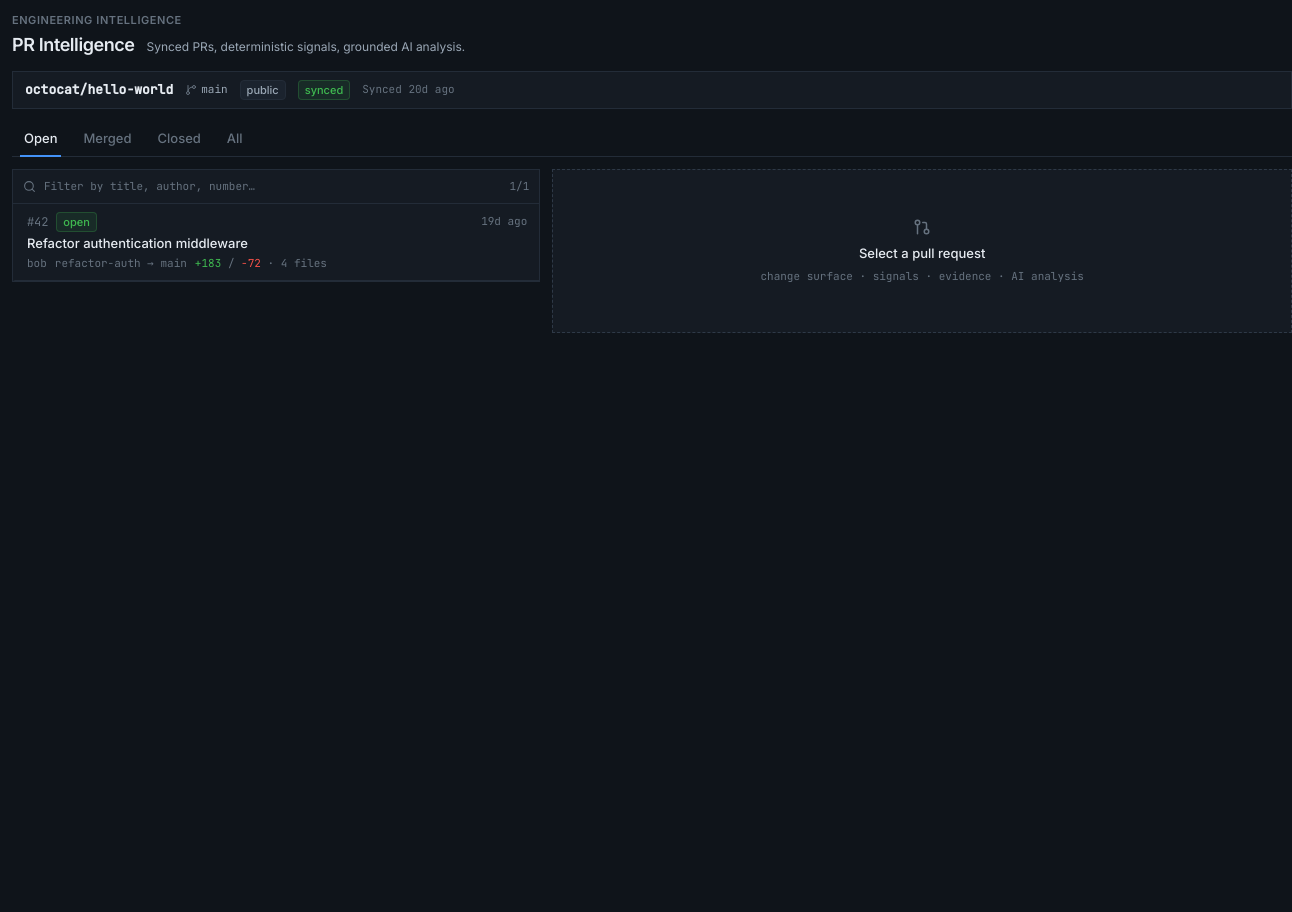
it: PullRequestPage real intelligence › generates AI analysis on explicit action and renders it
The width and height of the screenshot is (1292, 912).
Click the text "Refactor authentication middleware".
click(137, 242)  # box top-left (27, 234), bottom-right (248, 250)
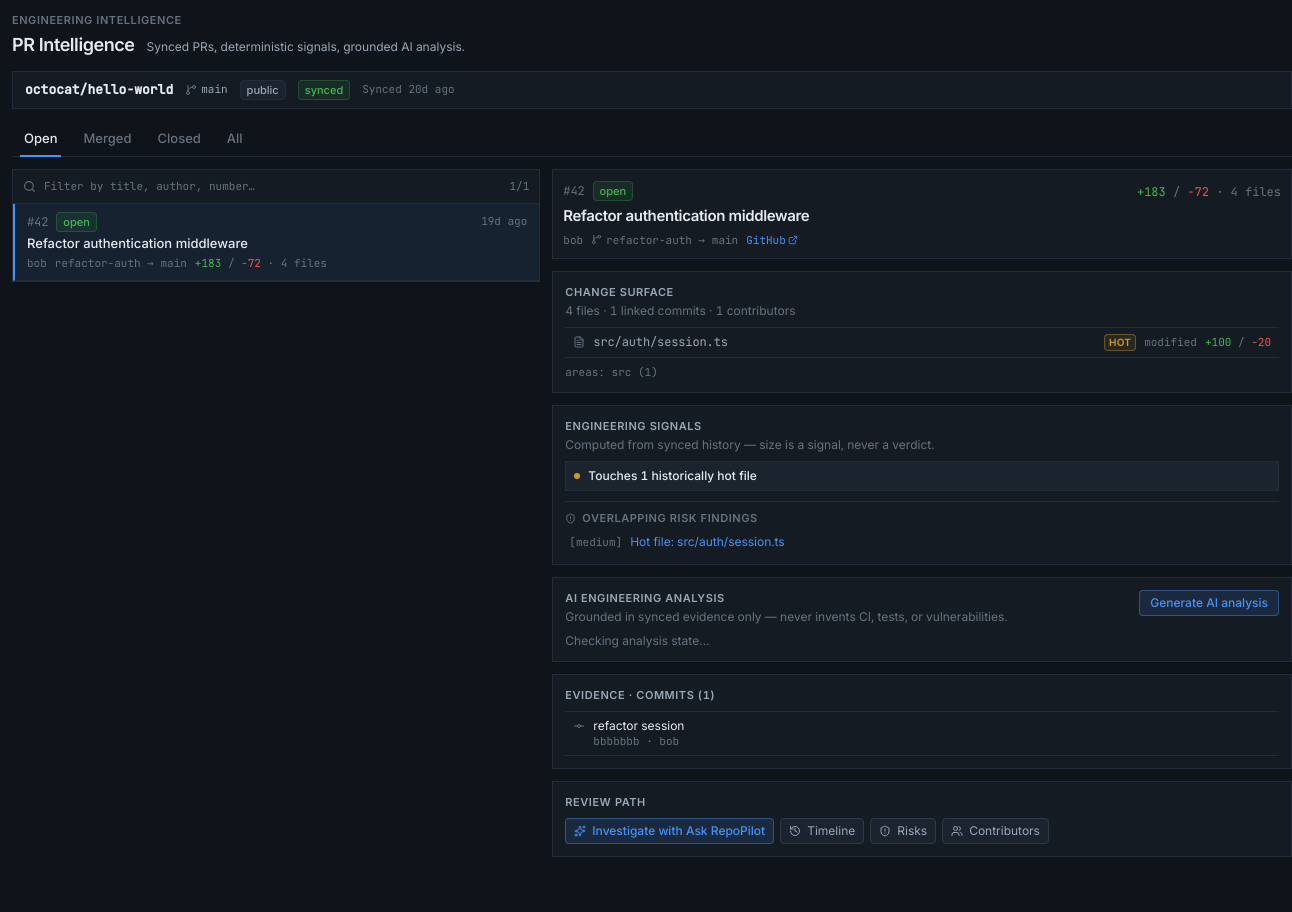
Click the button "Generate AI analysis".
click(1209, 603)  # box top-left (1139, 590), bottom-right (1279, 616)
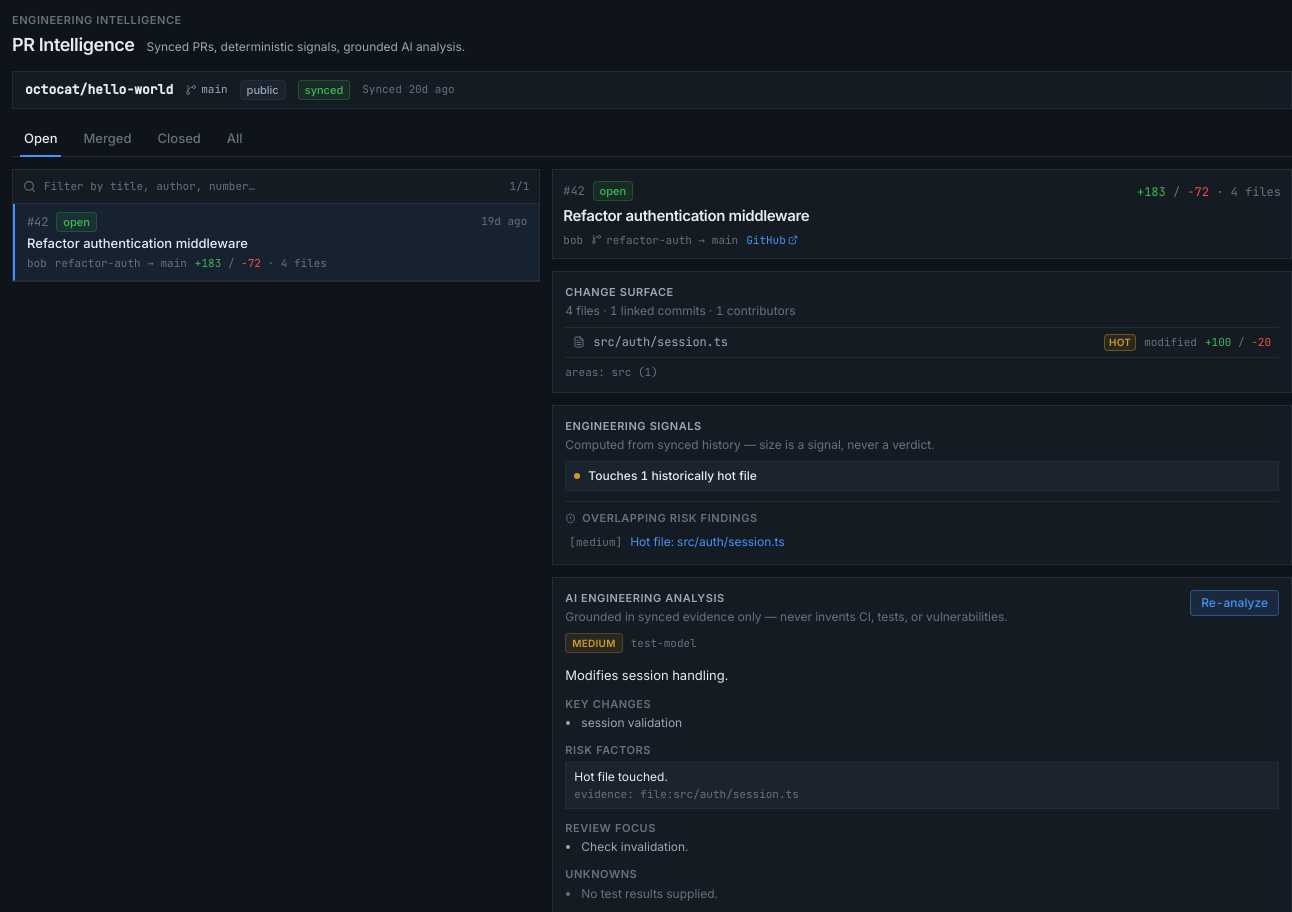
Check: the text "Modifies session handling." is shown, box top-left (565, 667), bottom-right (728, 683)
Check: the list item "Check invalidation." is shown, box top-left (581, 840), bottom-right (688, 854)
Check: the list item "No test results supplied." is shown, box top-left (581, 886), bottom-right (718, 901)
